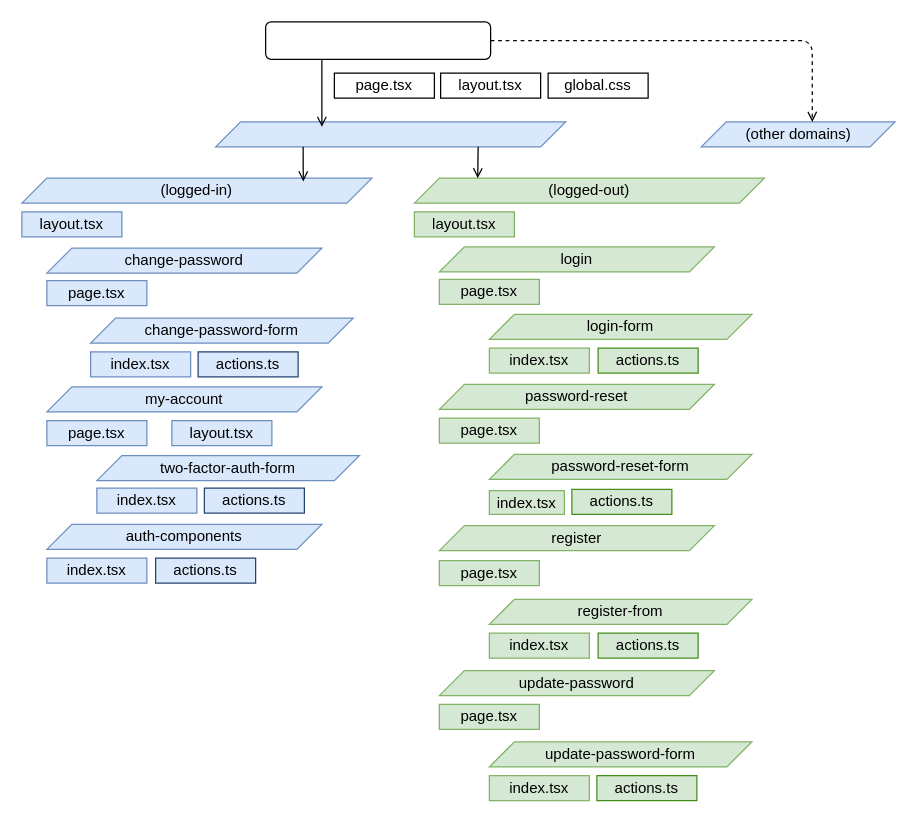
Image size: 918x823. Some labels were removed from this diagram. The shapes that lost their labels are listed below. From the top down, each one's centre as x and y in pixels, then its label:
the point at 377,40: App
the point at 390,134: (auth)
